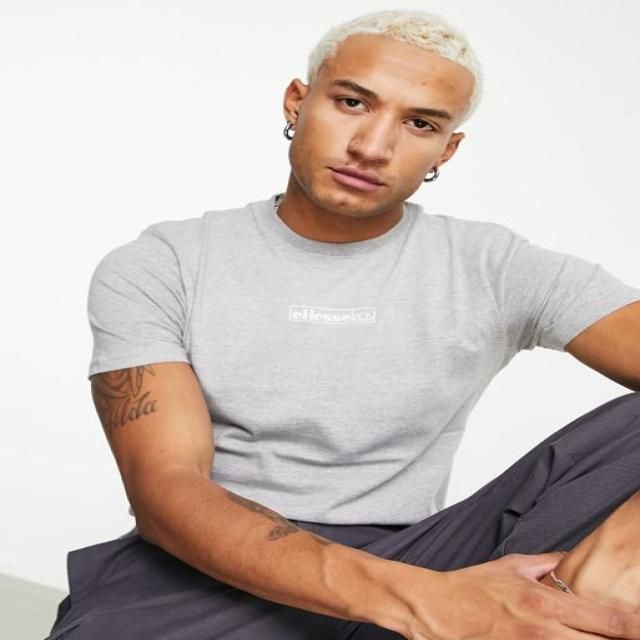tshirt: (84, 193, 634, 526)
